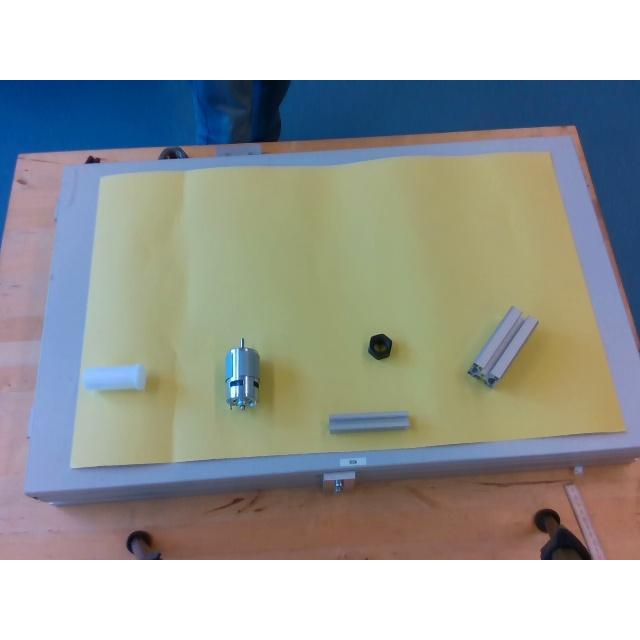F20_20_G: (329, 411, 409, 431)
M20: (367, 334, 391, 358)
Motor2: (225, 339, 259, 408)
S40_40_G: (468, 306, 536, 386)
Spacer: (82, 363, 146, 391)
